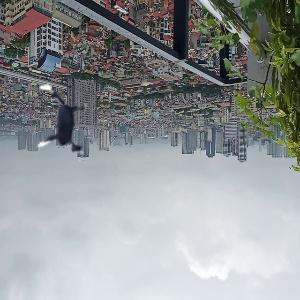drone: (13, 77, 111, 175)
